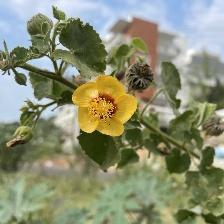indian mallow: (71, 73, 141, 140)
